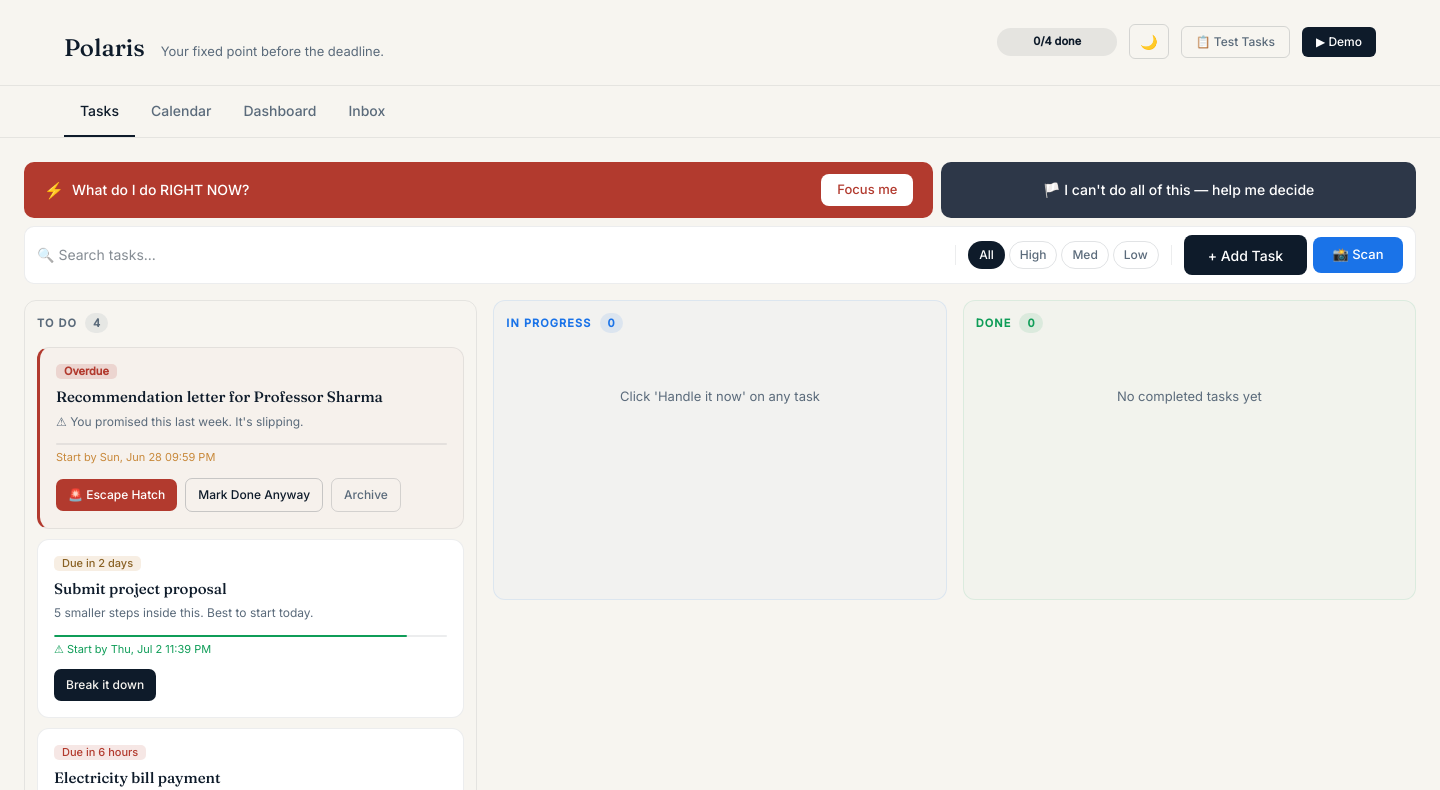
Module 13: Overdue Task Lifecycle › Dashboard shows Recovery Score card with 0% when overdue unresolved
The image size is (1440, 790).
Click the button "Dashboard" at (280,112), box 227,86 -> 332,137
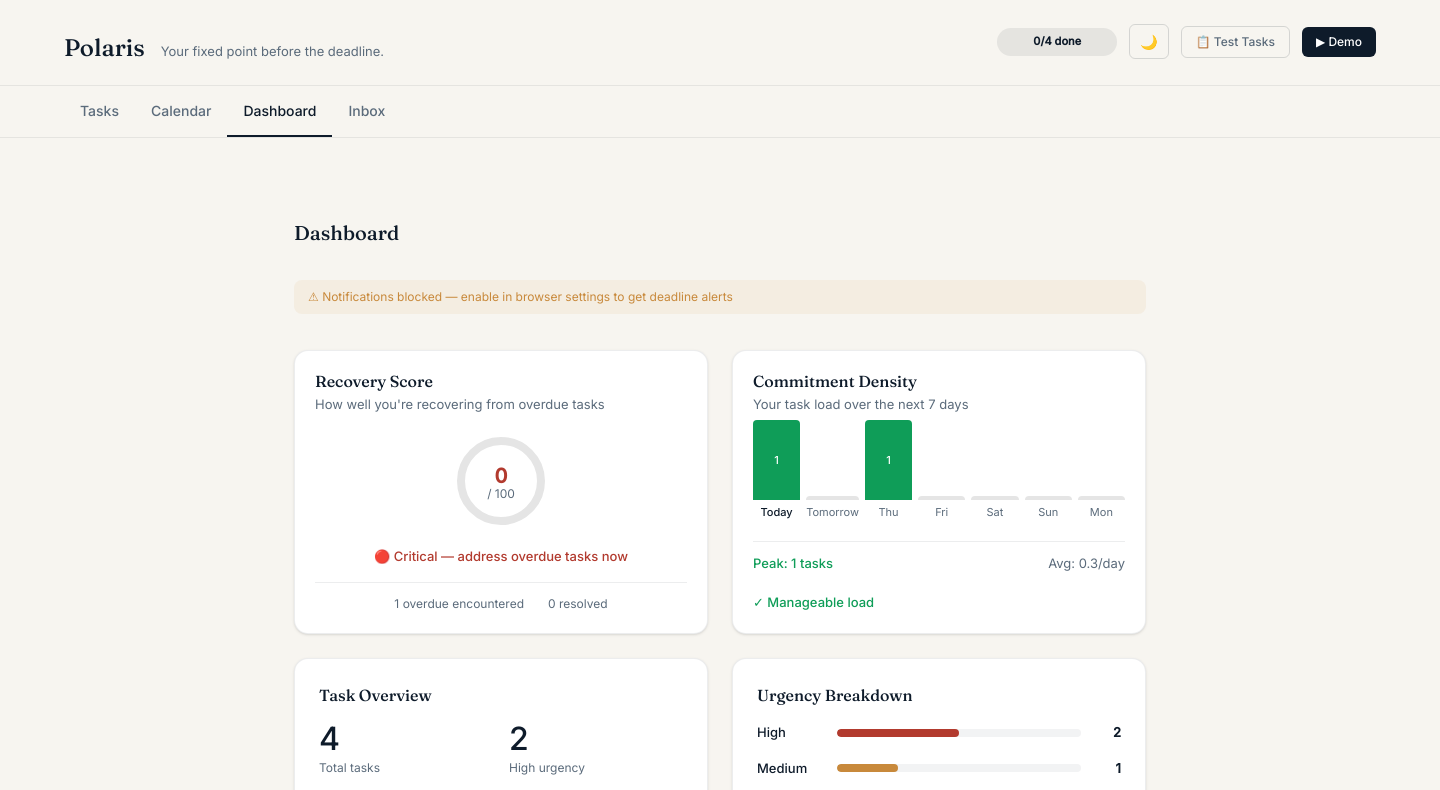
expect the heading "Recovery Score" is shown: met, box 315,371 -> 433,391
expect the text "🔴 Critical — address overdue tasks now" is shown: met, box 374,548 -> 628,564
expect the text "1 overdue encountered" is shown: met, box 394,595 -> 524,613
